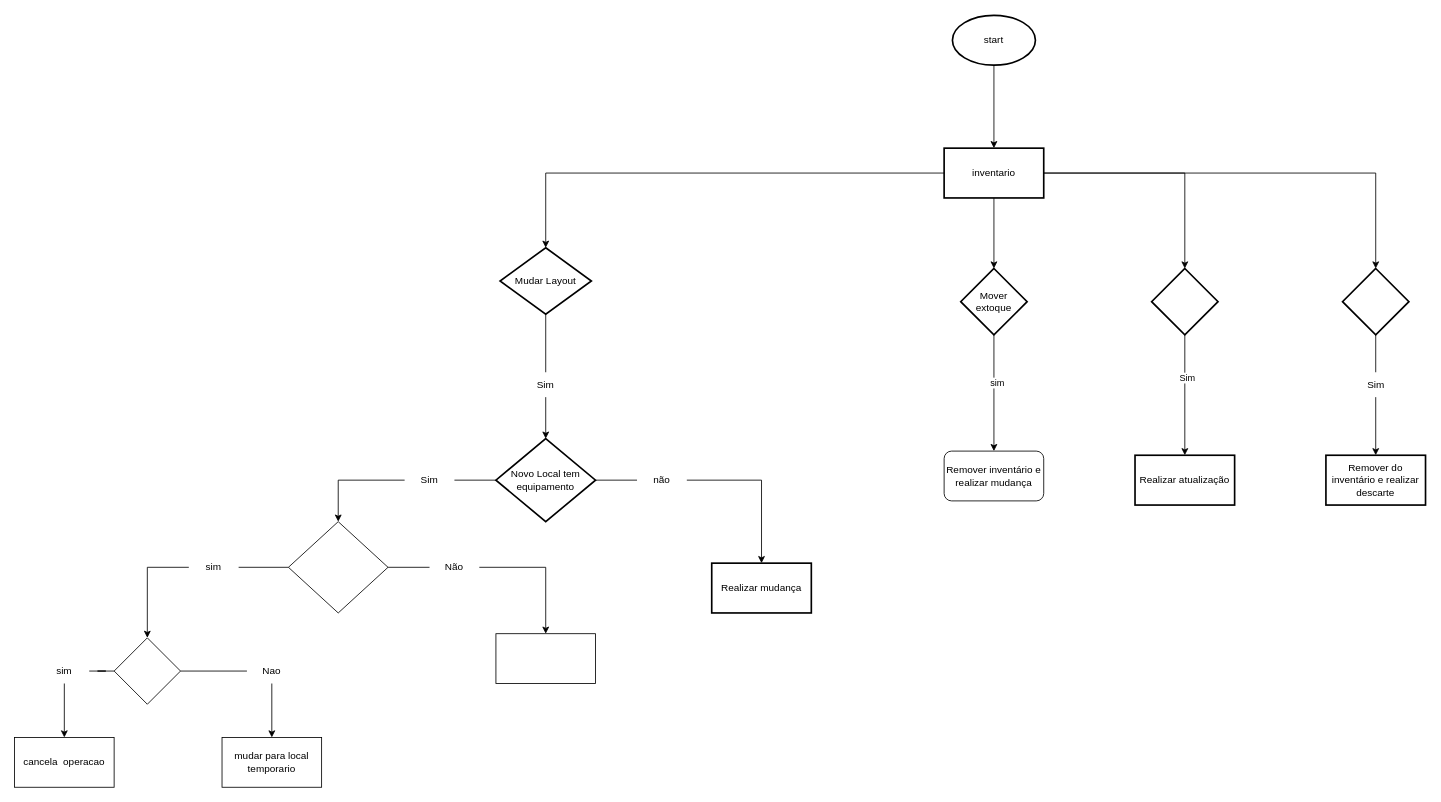
This 1441x802 diagram has some shape labels left out. Here are the shapes that lost their labels. From the top down, the centre of each, then its label:
At pixel 1184 301: "Ediatar".
At pixel 1375 301: "Descartar".
At pixel 338 567: "Mudança para local temporario".
At pixel 147 670: "local temporario ocupado?".
At pixel 545 658: "Cancelar mudança".
